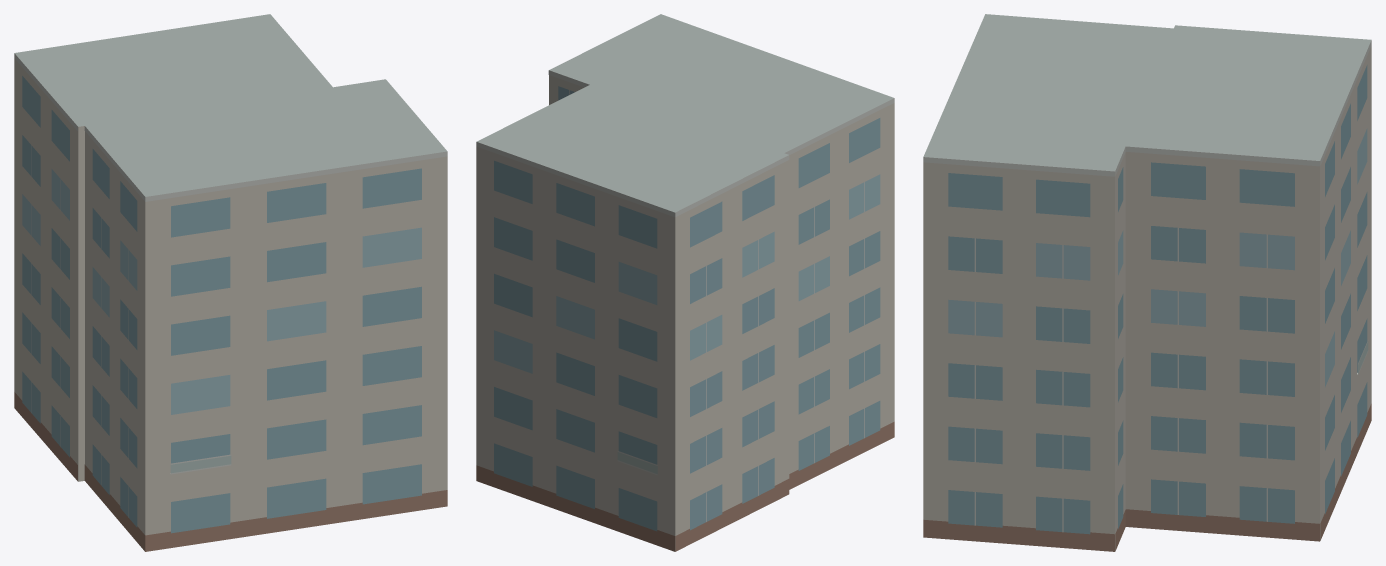
File: survey-upis-32991200.glb
3 views of the same model, side by side, from view 1: azimuth 30°, elevation 25°; view 2: azimuth 150°, elevation 25°; view 3: azimuth 270°, elevation 25° (orthographic). The views are drawn at different scales.
Visible parts, largest first — view 1: survey-upis-32991200.tmp; view 2: survey-upis-32991200.tmp; view 3: survey-upis-32991200.tmp.
Boxes of the visible parts, x1,y1,x2,y2 form: survey-upis-32991200.tmp: [14, 14, 447, 551]; survey-upis-32991200.tmp: [476, 14, 894, 551]; survey-upis-32991200.tmp: [923, 14, 1371, 551].
Size of the model in its own units: 15.46 by 17.4 by 18.6.
